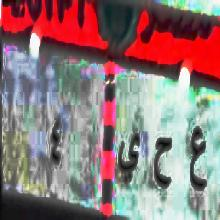4: (43, 118, 70, 168)
7aa: (150, 129, 176, 195)
ain: (184, 123, 210, 201)
yaa: (118, 127, 141, 189)
